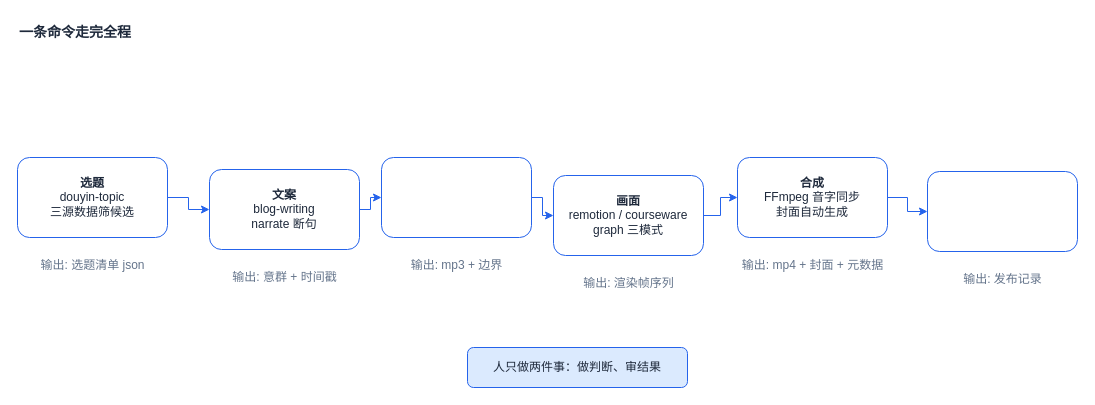
Some shapes in this 1095 by 405 pixel diagram are drawn without their labels. The shapes that lost their labels are listed below. From the top down, each one's box as (x1, y1, x2, y2) in pixels, then its label:
(380, 156, 532, 238): 配音 IndexTTS-2 克隆声五步链
(926, 170, 1078, 252): 发布 pub 五平台 公众号草稿
